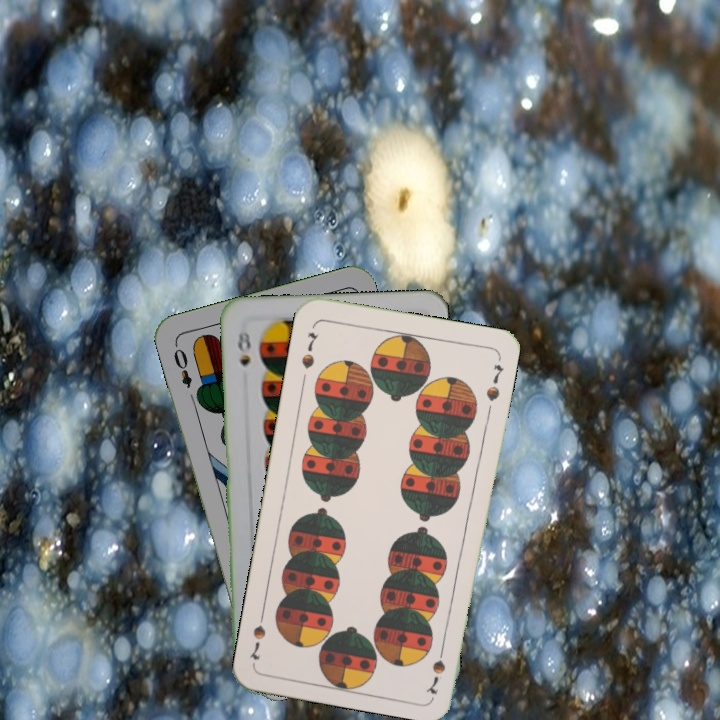EO: (169, 340, 195, 391)
S7: (424, 638, 448, 697), (297, 328, 321, 372)
S8: (234, 321, 254, 368)
